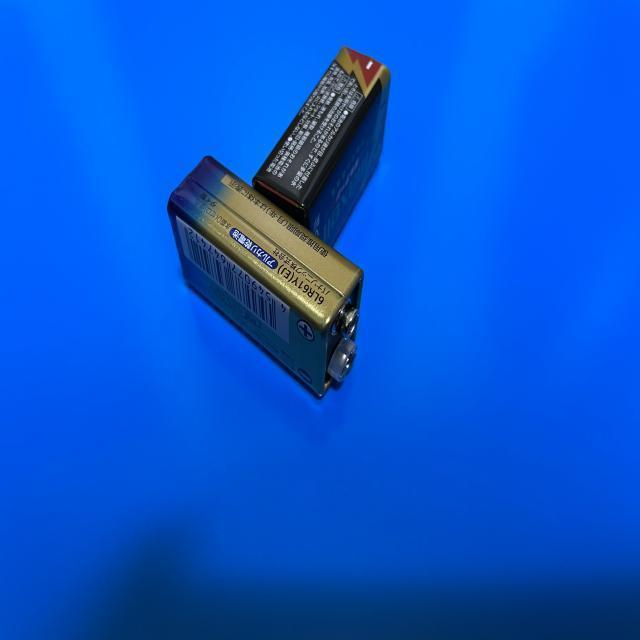9V: (166, 152, 363, 400), (253, 46, 391, 254)
